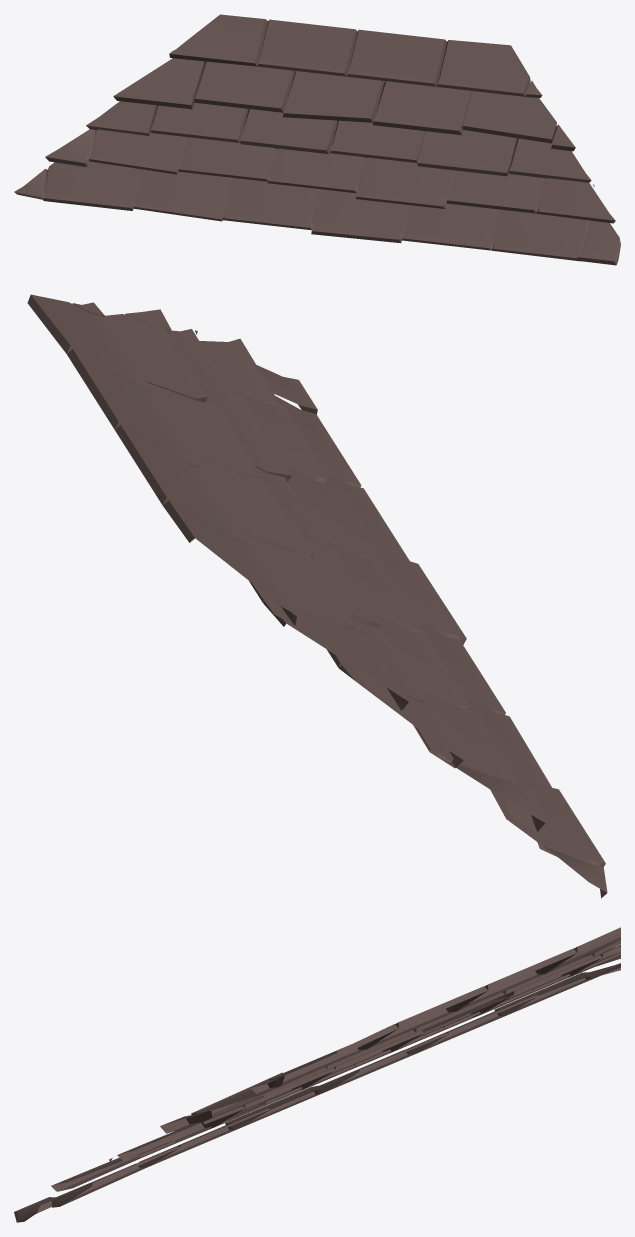
The model's file is Module_Building_Shingles_Corner.fbx.
3 views of the same model, one above another, from view 1: azimuth 30°, elevation 25°; view 2: azimuth 150°, elevation 25°; view 3: azimuth 270°, elevation 25° (orthographic). The views are drawn at different scales.
Parts seen in each view (by area): view 1: Module_Building_Shingles_Corner; view 2: Module_Building_Shingles_Corner; view 3: Module_Building_Shingles_Corner.
Boxes of the visible parts, x1,y1,x2,y2 form: Module_Building_Shingles_Corner: (14, 14, 620, 265); Module_Building_Shingles_Corner: (27, 294, 607, 898); Module_Building_Shingles_Corner: (14, 927, 620, 1222).
Bounding box in the file's own units: 210 × 67.71 × 206.
